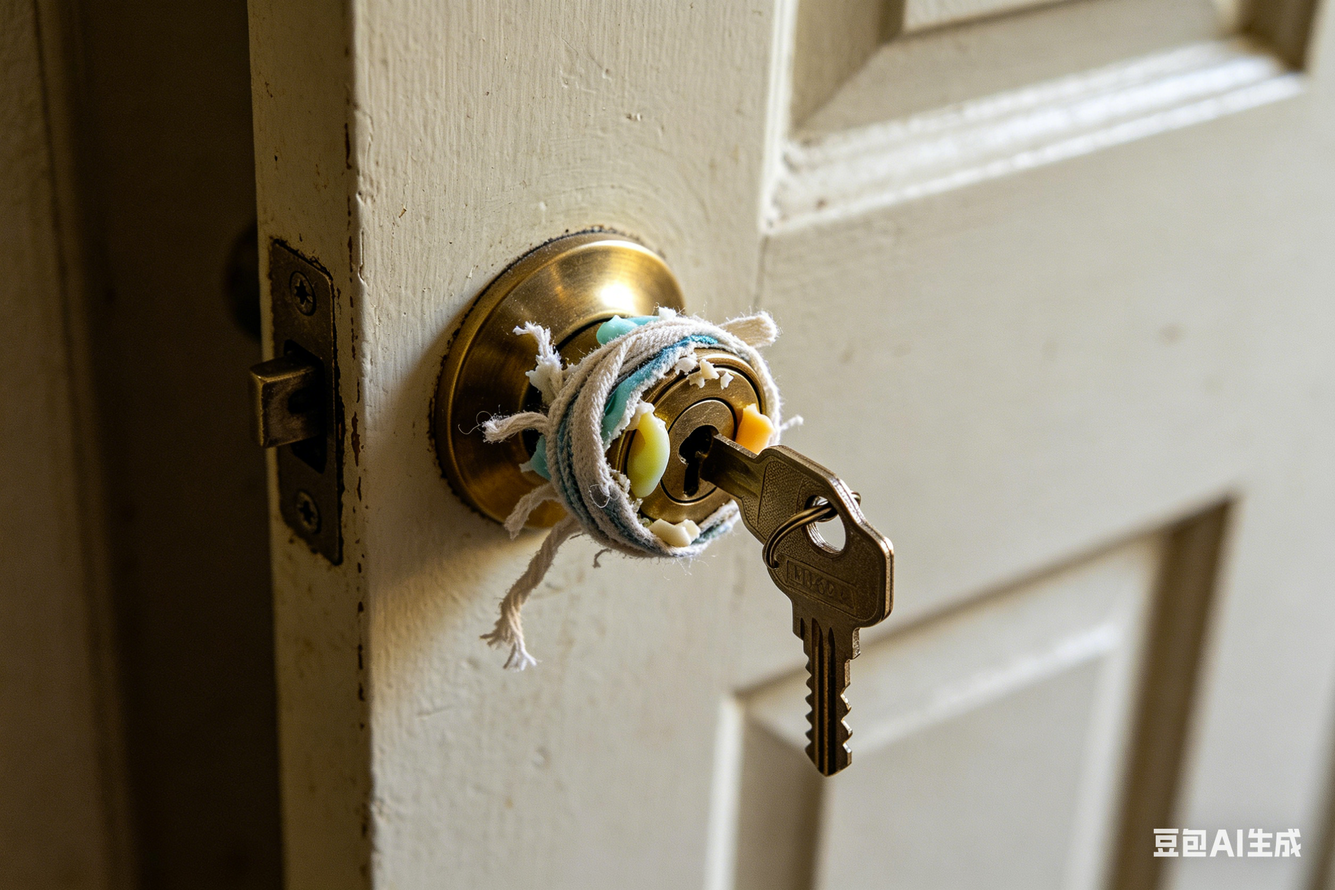BadLock: (478, 264, 802, 553)
